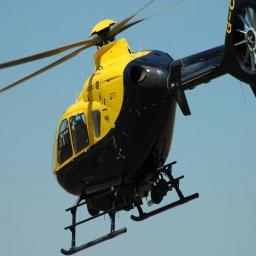helicopter: (3, 11, 255, 256)
